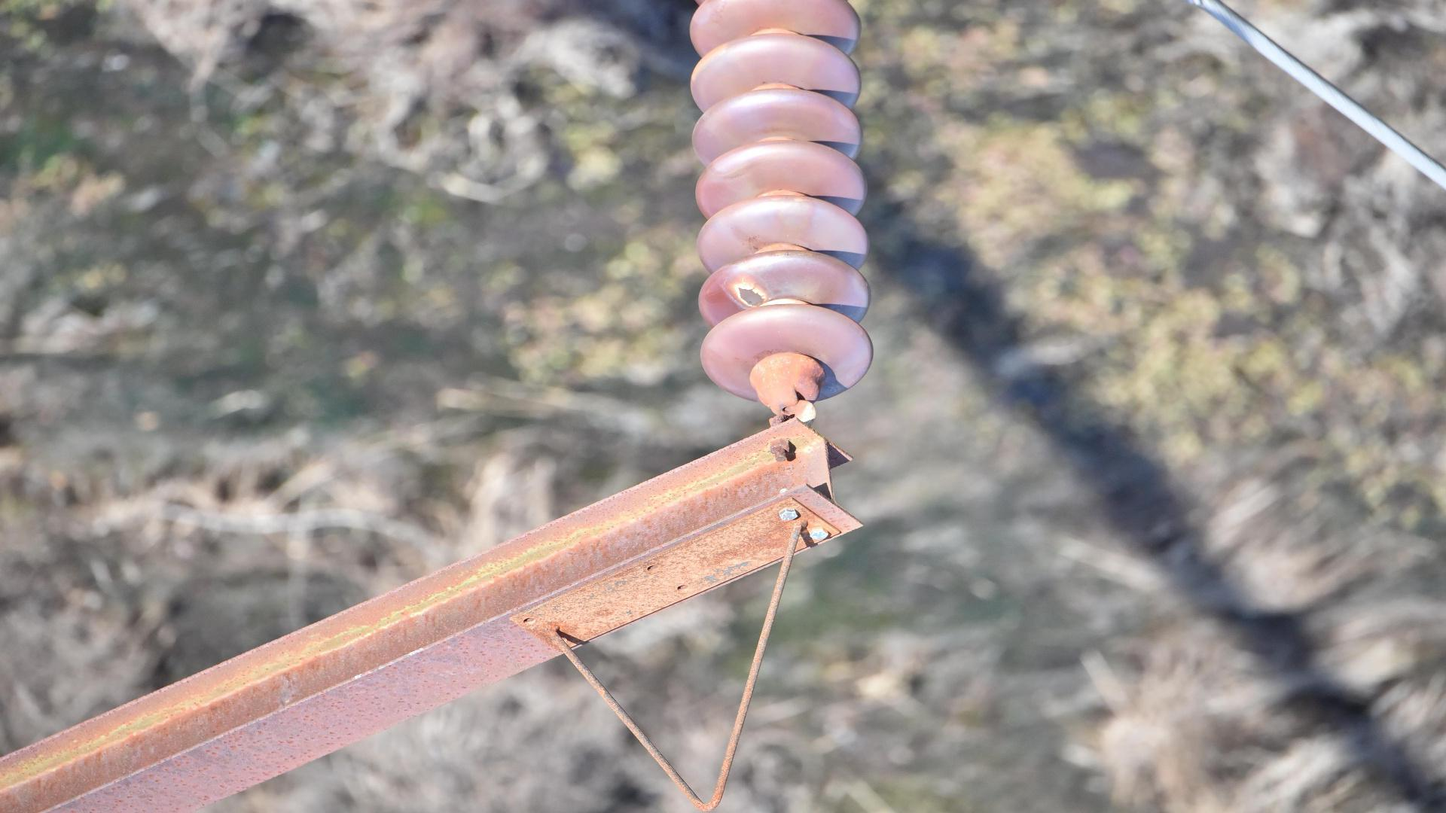insulator: (680, 1, 879, 406)
insulator_flashover: (723, 269, 772, 309)
